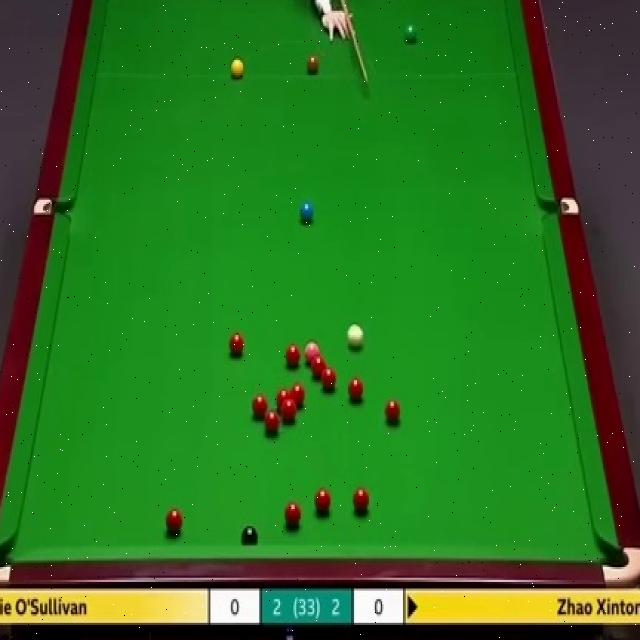black-ball: (241, 526, 258, 546)
blue-ball: (298, 197, 314, 225)
brown-ball: (306, 55, 319, 74)
green-ball: (402, 24, 418, 45)
pink-ball: (306, 342, 320, 366)
red-ball: (384, 398, 402, 429), (352, 486, 370, 515), (165, 508, 183, 535), (347, 376, 364, 404), (315, 488, 331, 516), (290, 384, 306, 411), (286, 502, 302, 528), (252, 394, 268, 420), (265, 412, 280, 438), (311, 355, 327, 379), (322, 367, 336, 392), (230, 334, 244, 357), (276, 388, 290, 410), (282, 402, 296, 423), (286, 347, 300, 367)
white-ball: (347, 320, 364, 350)
yellow-ball: (230, 57, 244, 78)
